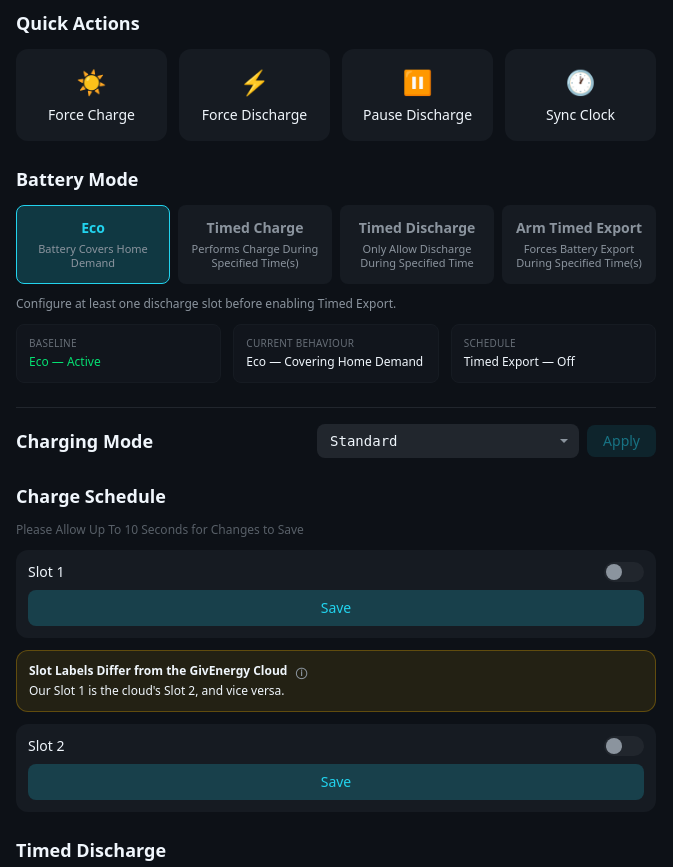
Test: <ControlPage/> — Timed Discharge device gating › shows the API error and restores the action when pausing is rejected
This screenshot has width=673, height=867.
Click the button "⏸️ Pause Discharge".
click(418, 95)  # box [342,49,493,140]
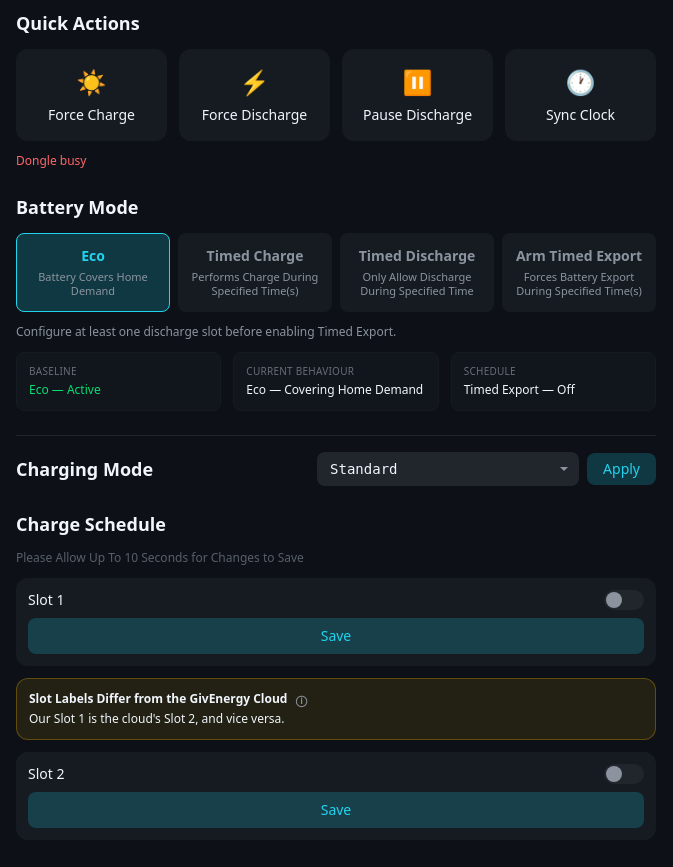
Check: the message "Dongle busy" is shown, box [16,152,86,168]
